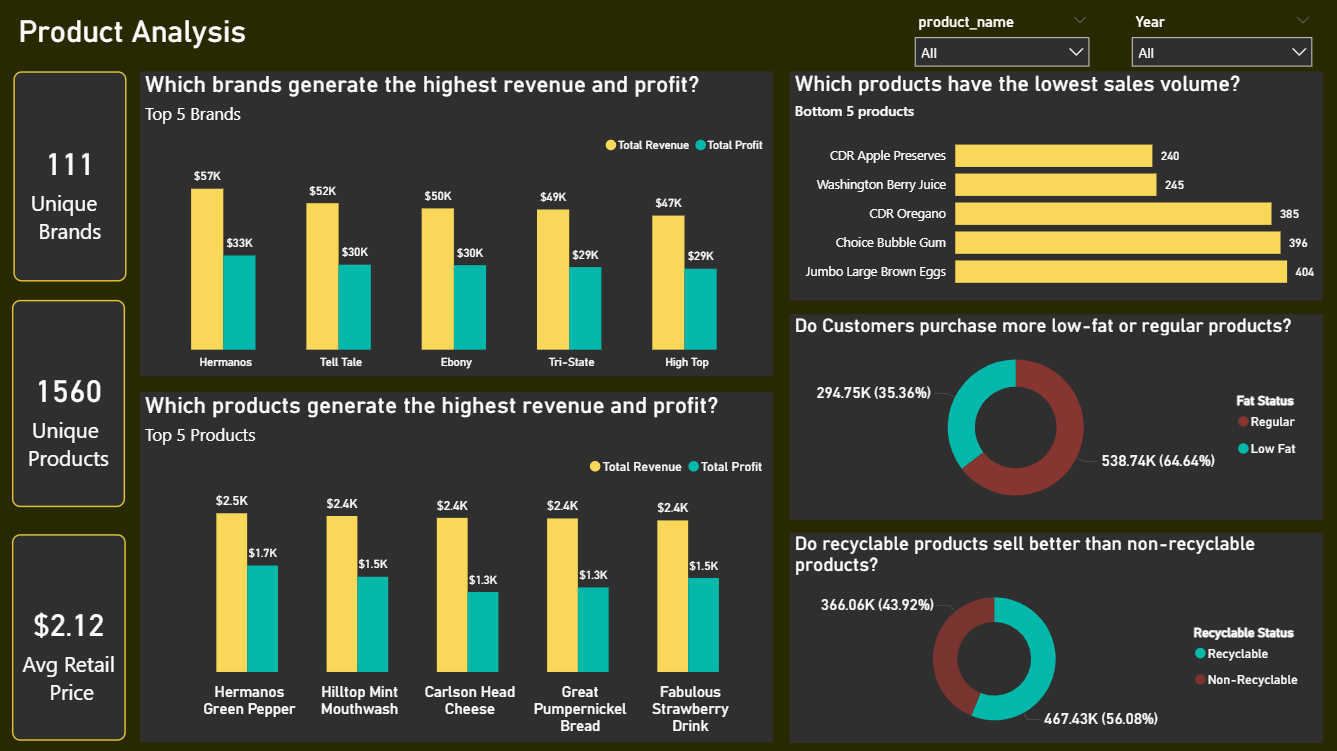

The page's visual inventory and layout, read from the dashboard file:
{"tool":"powerbi","page":{"name":"Product Analysis","canvas":[1280,720],"ordinal":1},"visuals":[{"type":"clusteredColumnChart","title":"Which brands generate the highest revenue and profit?","fields":{"Category":["Products.product_brand"],"Y":["Measure.Total Revenue","Measure.Total Profit"]},"box":[134.9,69.6,603.4,291.1],"z":0},{"type":"clusteredColumnChart","title":"Which products generate the highest revenue and profit?","fields":{"Category":["Products.product_name"],"Y":["Measure.Total Revenue","Measure.Total Profit"]},"box":[134.9,374.8,603.4,333.6],"z":1000},{"type":"donutChart","title":"Do Customers purchase more  low-fat or regular products?","fields":{"Y":["Measure.Quantity Sold"],"Category":["Products.Low Fat Status"]},"box":[753.9,301,508.3,195.9],"z":2000},{"type":"card","fields":{"Values":["Measure.Unique  Brands"]},"box":[14.2,69.6,107.9,200.2],"z":3000},{"type":"donutChart","title":"Do recyclable products sell better than non-recyclable products?","fields":{"Category":["Products.Recyclable Status"],"Y":["Measure.Quantity Sold"]},"box":[753.9,509.7,508.3,200.2],"z":4000},{"type":"clusteredBarChart","title":"Which products have the lowest sales volume?","fields":{"Category":["Products.product_name"],"Y":["Measure.Quantity Sold"]},"box":[753.9,69.6,508.3,218.6],"z":5000},{"type":"card","fields":{"Values":["Measure.Unique Products"]},"box":[12.8,288.2,107.9,197.3],"z":6000},{"type":"card","fields":{"Values":["Measure.Avg Retail Price"]},"box":[12.6,510.4,108.7,196.9],"z":7000},{"type":"textbox","box":[13.8,10,252.1,59],"z":8000},{"type":"slicer","fields":{"Values":["Products.product_name"]},"box":[863.2,9.9,186,59.6],"z":9000},{"type":"slicer","fields":{"Values":["Calender.Year"]},"box":[1070.5,9.9,191.7,62.5],"z":10000}]}

Visuals, with their boxes in screenshot pixels (x1, y1, x2, y2), scaled from the page's 1280x720 canvas onto the 1337x751 screenshot:
"Which brands generate the highest revenue and profit?" clusteredColumnChart: region(141, 73, 771, 376)
"Which products generate the highest revenue and profit?" clusteredColumnChart: region(141, 391, 771, 739)
"Do Customers purchase more  low-fat or regular products?" donutChart: region(787, 314, 1318, 518)
card - Measure.Unique  Brands: region(15, 73, 128, 281)
"Do recyclable products sell better than non-recyclable products?" donutChart: region(787, 532, 1318, 740)
"Which products have the lowest sales volume?" clusteredBarChart: region(787, 73, 1318, 301)
card - Measure.Unique Products: region(13, 301, 126, 506)
card - Measure.Avg Retail Price: region(13, 532, 127, 738)
textbox: region(14, 10, 278, 72)
slicer - Products.product_name: region(902, 10, 1096, 72)
slicer - Calender.Year: region(1118, 10, 1318, 76)
